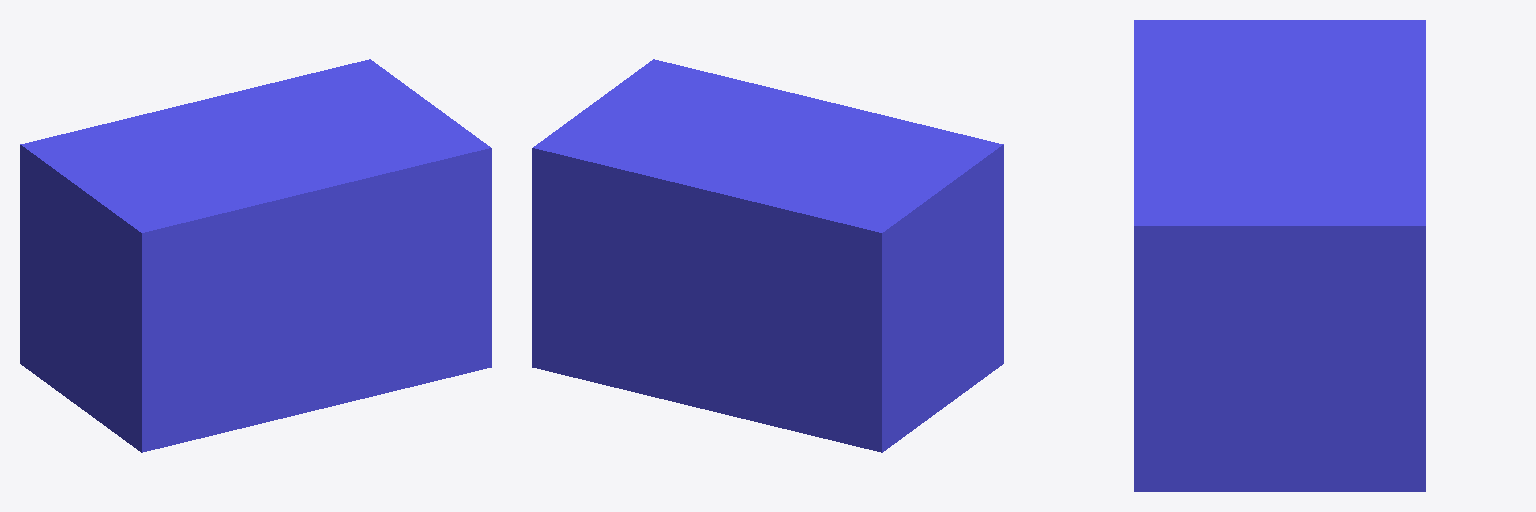
URDF robot description (block):
<robot name="block">
  <link name="block">
    <visual>
      <origin xyz="0 0 0"/>
      <geometry>
        <box size="0.1 0.060 0.060" />
      </geometry>
      <material name="red">
        <color rgba="0.4 0.4 1.0 1.0"/>
      </material>
    </visual>

    <collision>
      <origin xyz="0 0 0"/>
      <geometry>
        <box size="0.1 0.060 0.060" />
      </geometry>
    </collision>
<contact>
      <lateral_friction value="1.0"/>
      <rolling_friction value="0.0001"/>
      <inertia_scaling value="3.0"/>
    </contact>
    <inertial>
      <origin rpy="0 0 0" xyz="0 0 0"/>
       <mass value="0.1"/>
       <inertia ixx="1" ixy="0" ixz="0" iyy="1" iyz="0" izz="1"/>
    </inertial>
  </link>


</robot>

--- What the picture shows (computed from the rendered views, not written in the file) ---
Views: 3 orthographic renders of the robot side by side, from view 1: azimuth 30°, elevation 25°; view 2: azimuth 150°, elevation 25°; view 3: azimuth 270°, elevation 25°.
Model block with 1 links and 0 joints (none), rooted at block, posed every joint at zero.
Visible links, largest first — view 1: block; view 2: block; view 3: block.
Link boxes in pixels (x1=…): block: x1=20, y1=59, x2=491, y2=452; block: x1=532, y1=59, x2=1003, y2=452; block: x1=1134, y1=20, x2=1425, y2=491.
Size in the robot's own frame: 0.1 by 0.06 by 0.06 metres.
Geometry: primitives only (box / cylinder / sphere), no mesh files.